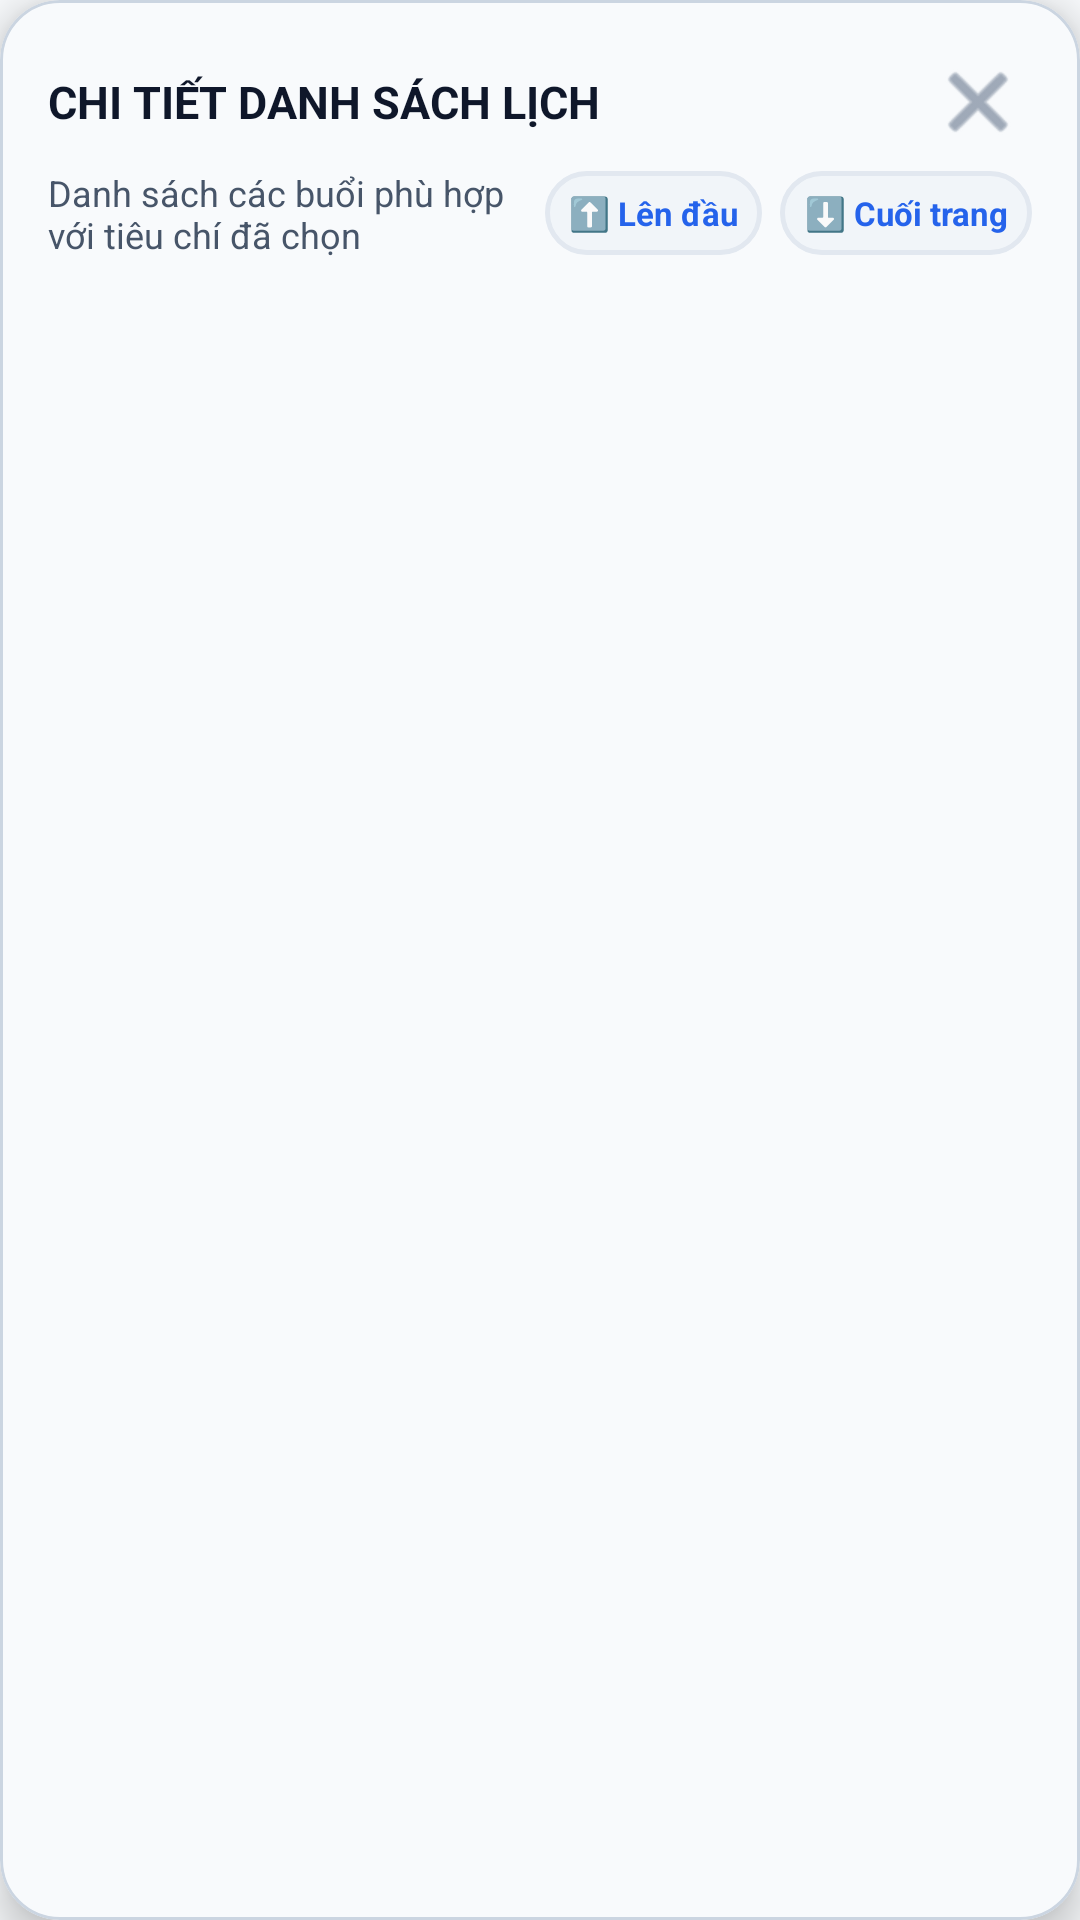

Where icons sit on this 1080x1920 app screen, as (x1, y1, x2, y2):
Đóng: (948, 72, 1008, 132)
